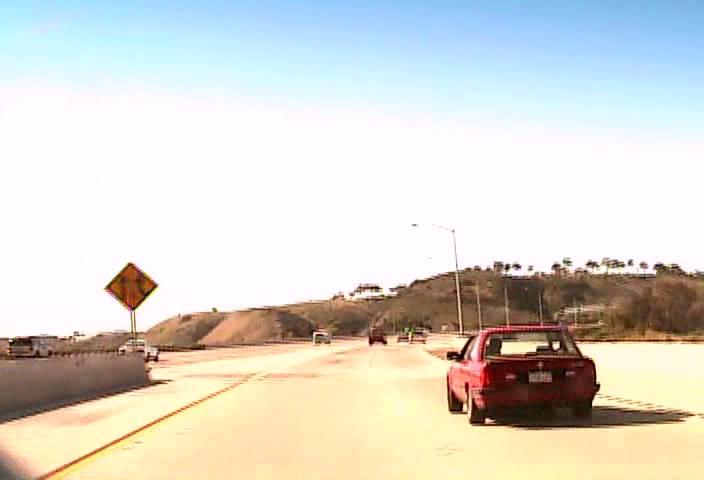addedLane: (103, 261, 158, 310)
